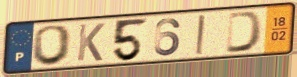5: (110, 17, 150, 63)
6: (154, 17, 183, 58)
D: (223, 10, 265, 55)
I: (194, 13, 207, 57)
K: (75, 22, 107, 63)
O: (30, 24, 75, 68)
